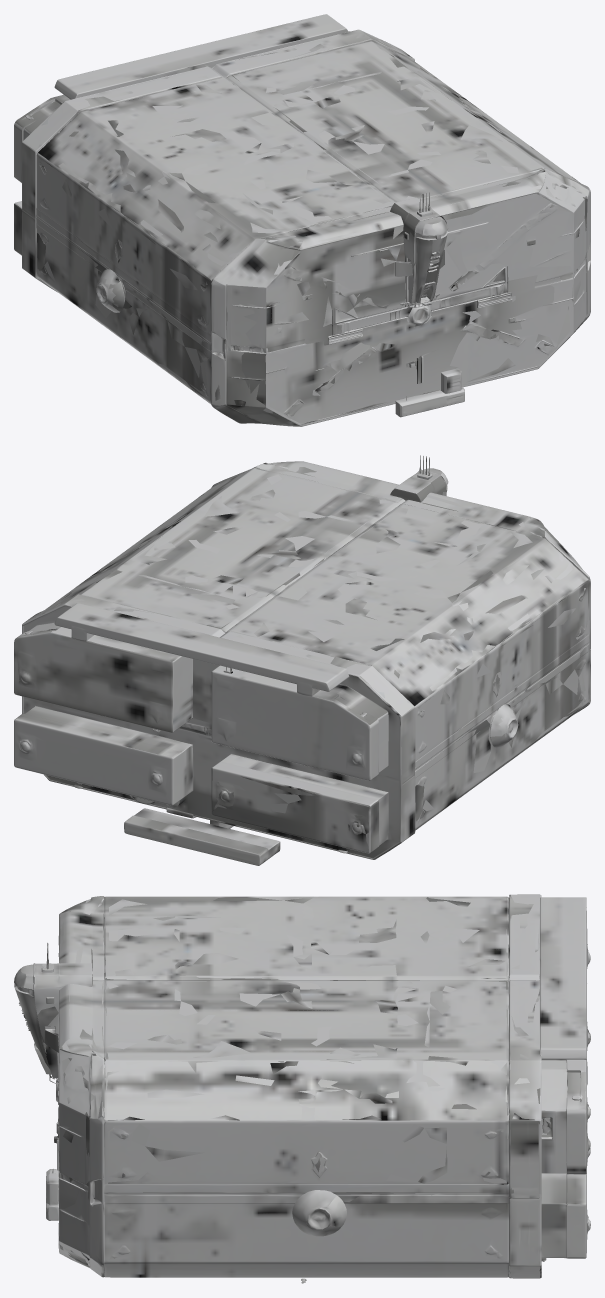
Rendered from empire_supply.glb.
The picture shows the model from 3 angles, top to bottom: view 1: azimuth 30°, elevation 25°; view 2: azimuth 150°, elevation 25°; view 3: azimuth 270°, elevation 25°; orthographic projection. The views are drawn at different scales.
Parts seen in each view (by area): view 1: convert; view 2: convert; view 3: convert.
Boxes of the visible parts, box(x1,y1,x2,y2) form: convert: box(14, 14, 590, 426); convert: box(14, 455, 590, 865); convert: box(14, 894, 590, 1283).
Size of the model in its own units: 0.8681 by 0.4567 by 0.9104.
1 material, 1 textured.
